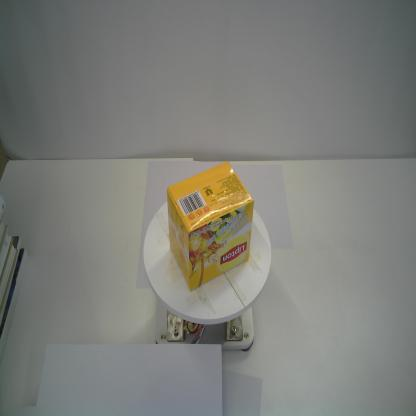Instant Drink: (167, 160, 254, 291)
